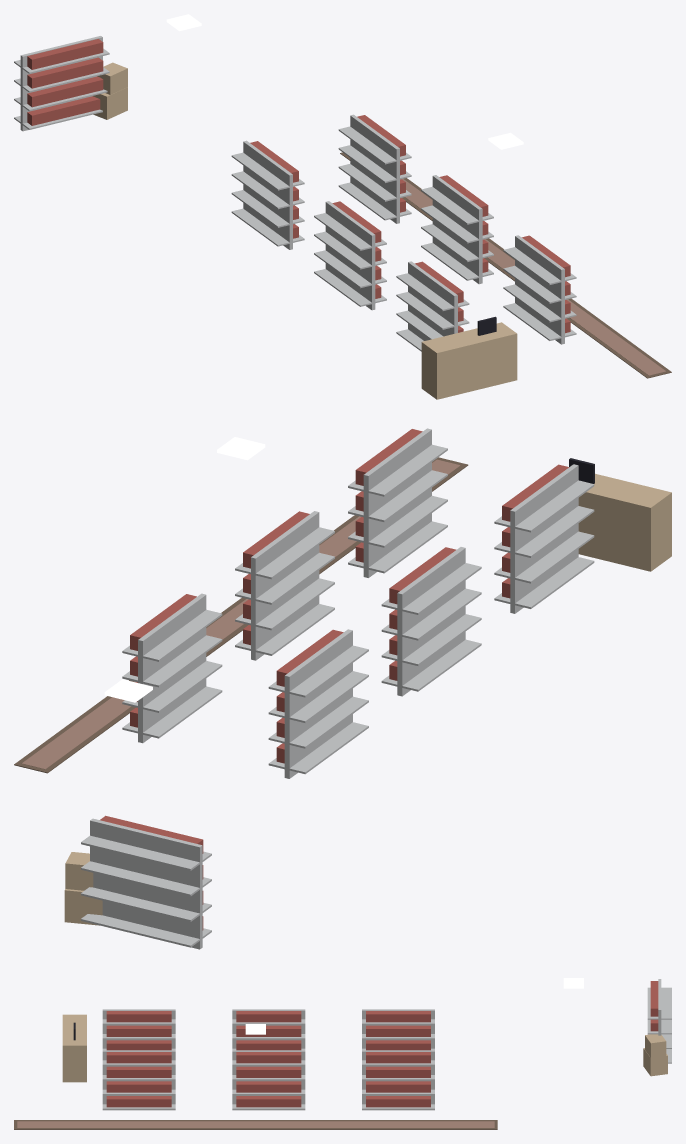
File: fine-s0.glb
3 views of the same model, one above another, from view 1: azimuth 30°, elevation 25°; view 2: azimuth 150°, elevation 25°; view 3: azimuth 270°, elevation 25° (orthographic). The views are drawn at different scales.
Parts seen in each view (by area): view 1: shelving.000, shop-counter.000, shelf.001, shelf.004, shelf.000, shelf.003, shelf.005, shelf.002, soft-s0, cardboard-box.000; view 2: shelving.000, shelf.000, shelf.001, shelf.002, shelf.005, shelf.004, shelf.003, shop-counter.000, soft-s0, cardboard-box.000; view 3: soft-s0, shelf.004, shelf.005, shelf.003, shelf.002, shelf.000, shelf.001, shop-counter.000, shelving.000, cardboard-box.000.
Part boxes in pixels (x1=…): shelving.000: x1=14, y1=36, x2=109, y2=131; shop-counter.000: x1=421, y1=316, x2=517, y2=399; shelf.001: x1=314, y1=201, x2=386, y2=310; shelf.004: x1=421, y1=175, x2=493, y2=284; shelf.000: x1=231, y1=140, x2=304, y2=249; shelf.003: x1=338, y1=114, x2=411, y2=223; shelf.005: x1=503, y1=235, x2=576, y2=344; shelf.002: x1=396, y1=261, x2=469, y2=351; soft-s0: x1=340, y1=152, x2=671, y2=378; cardboard-box.000: x1=93, y1=62, x2=127, y2=119; shelving.000: x1=81, y1=815, x2=211, y2=949; shelf.000: x1=268, y1=629, x2=368, y2=778; shelf.001: x1=381, y1=547, x2=481, y2=696; shelf.002: x1=494, y1=464, x2=594, y2=613; shelf.005: x1=348, y1=428, x2=447, y2=577; shelf.004: x1=235, y1=511, x2=334, y2=660; shelf.003: x1=122, y1=593, x2=222, y2=743; shop-counter.000: x1=569, y1=458, x2=671, y2=571; soft-s0: x1=14, y1=457, x2=468, y2=773; cardboard-box.000: x1=64, y1=852, x2=102, y2=925; soft-s0: x1=14, y1=1120, x2=497, y2=1129; shelf.004: x1=232, y1=1050, x2=305, y2=1110; shelf.005: x1=102, y1=1050, x2=175, y2=1110; shelf.003: x1=362, y1=1050, x2=434, y2=1110; shelf.002: x1=102, y1=1009, x2=175, y2=1050; shelf.000: x1=362, y1=1009, x2=434, y2=1050; shelf.001: x1=232, y1=1009, x2=305, y2=1050; shop-counter.000: x1=62, y1=1014, x2=86, y2=1082; shelving.000: x1=647, y1=979, x2=671, y2=1063; cardboard-box.000: x1=643, y1=1034, x2=667, y2=1076.
Bounding box in the file's own units: 5.38 × 2.64 × 16.24.
